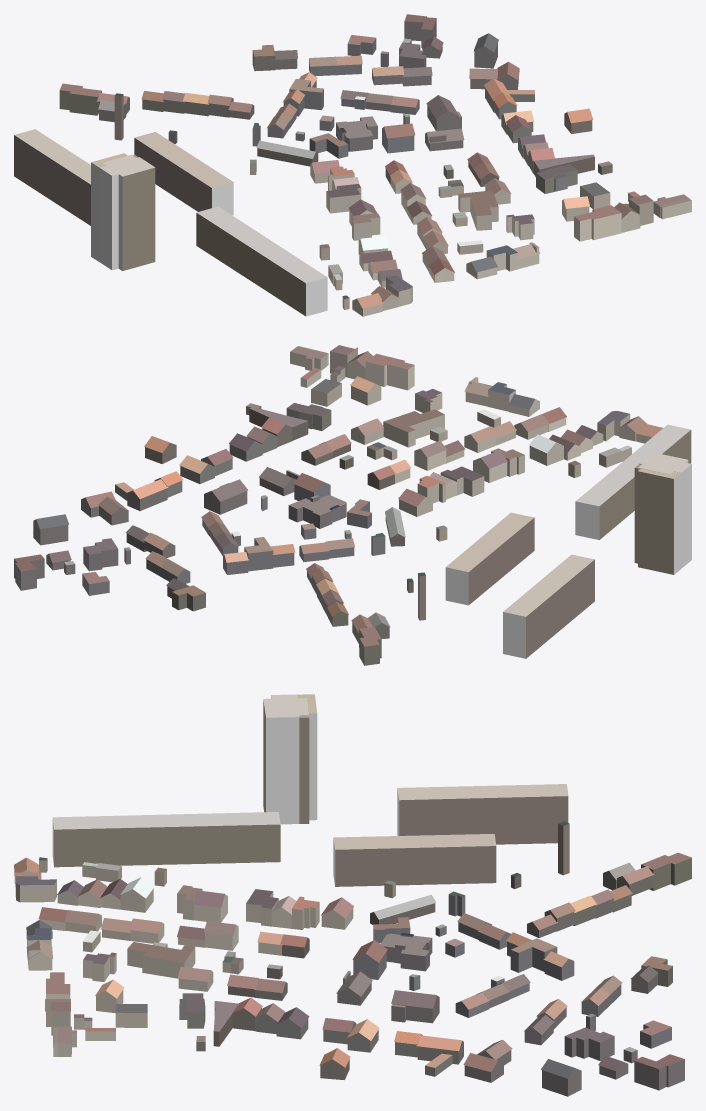
3 views of the same model, one above another, from view 1: azimuth 30°, elevation 25°; view 2: azimuth 150°, elevation 25°; view 3: azimuth 270°, elevation 25° (orthographic). The views are drawn at different scales.
Visible parts, largest first — view 1: tuile; view 2: tuile; view 3: tuile.
Boxes of the visible parts, x1,y1,x2,y2 form: tuile: (14, 14, 691, 316); tuile: (14, 345, 691, 665); tuile: (14, 694, 691, 1096).
Size of the model in its own units: 262 by 51.73 by 261.
